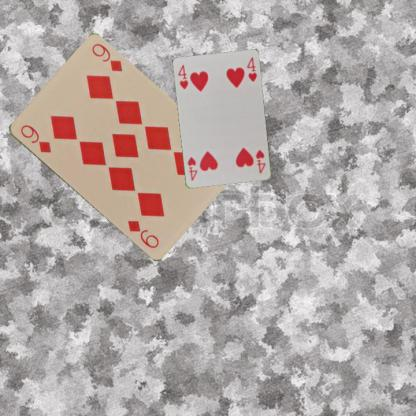4h: (176, 62, 190, 91), (254, 147, 267, 175)
9d: (17, 122, 52, 154)
